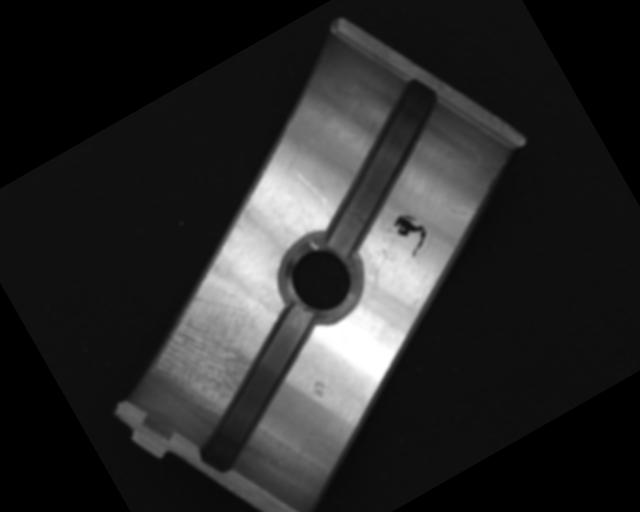blot: (387, 204, 437, 260)
bruise: (306, 377, 333, 404)
gap: (280, 71, 486, 257), (160, 303, 355, 477)
hole: (265, 220, 379, 336)
nick: (292, 163, 326, 209)
scratch: (127, 267, 289, 429)
